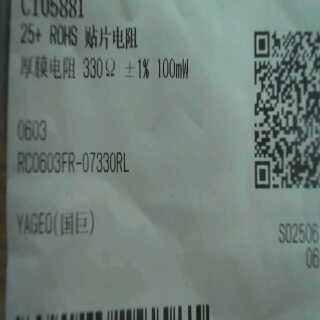330R: (81, 53, 120, 90)
